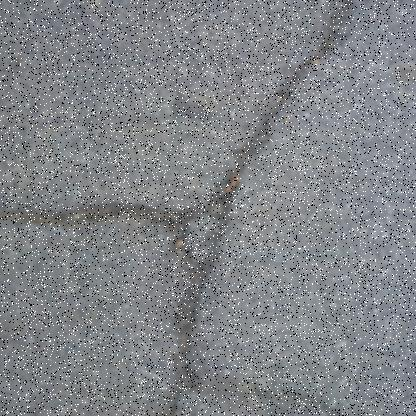Cracks: (157, 0, 381, 415), (0, 189, 239, 278)
